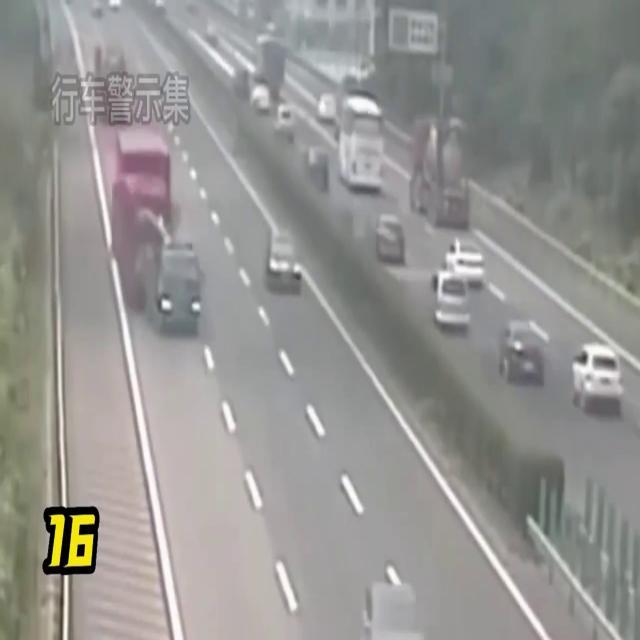multiple_accident: (73, 83, 227, 357)
normal: (318, 78, 545, 330), (480, 280, 558, 405), (250, 203, 323, 315), (567, 318, 638, 428)
